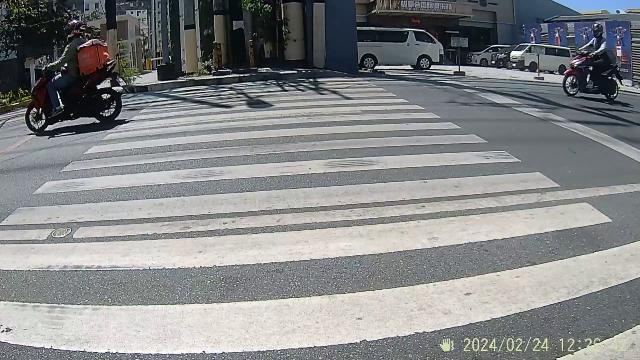car: (360, 28, 444, 72)
motorcycle: (564, 43, 620, 99)
